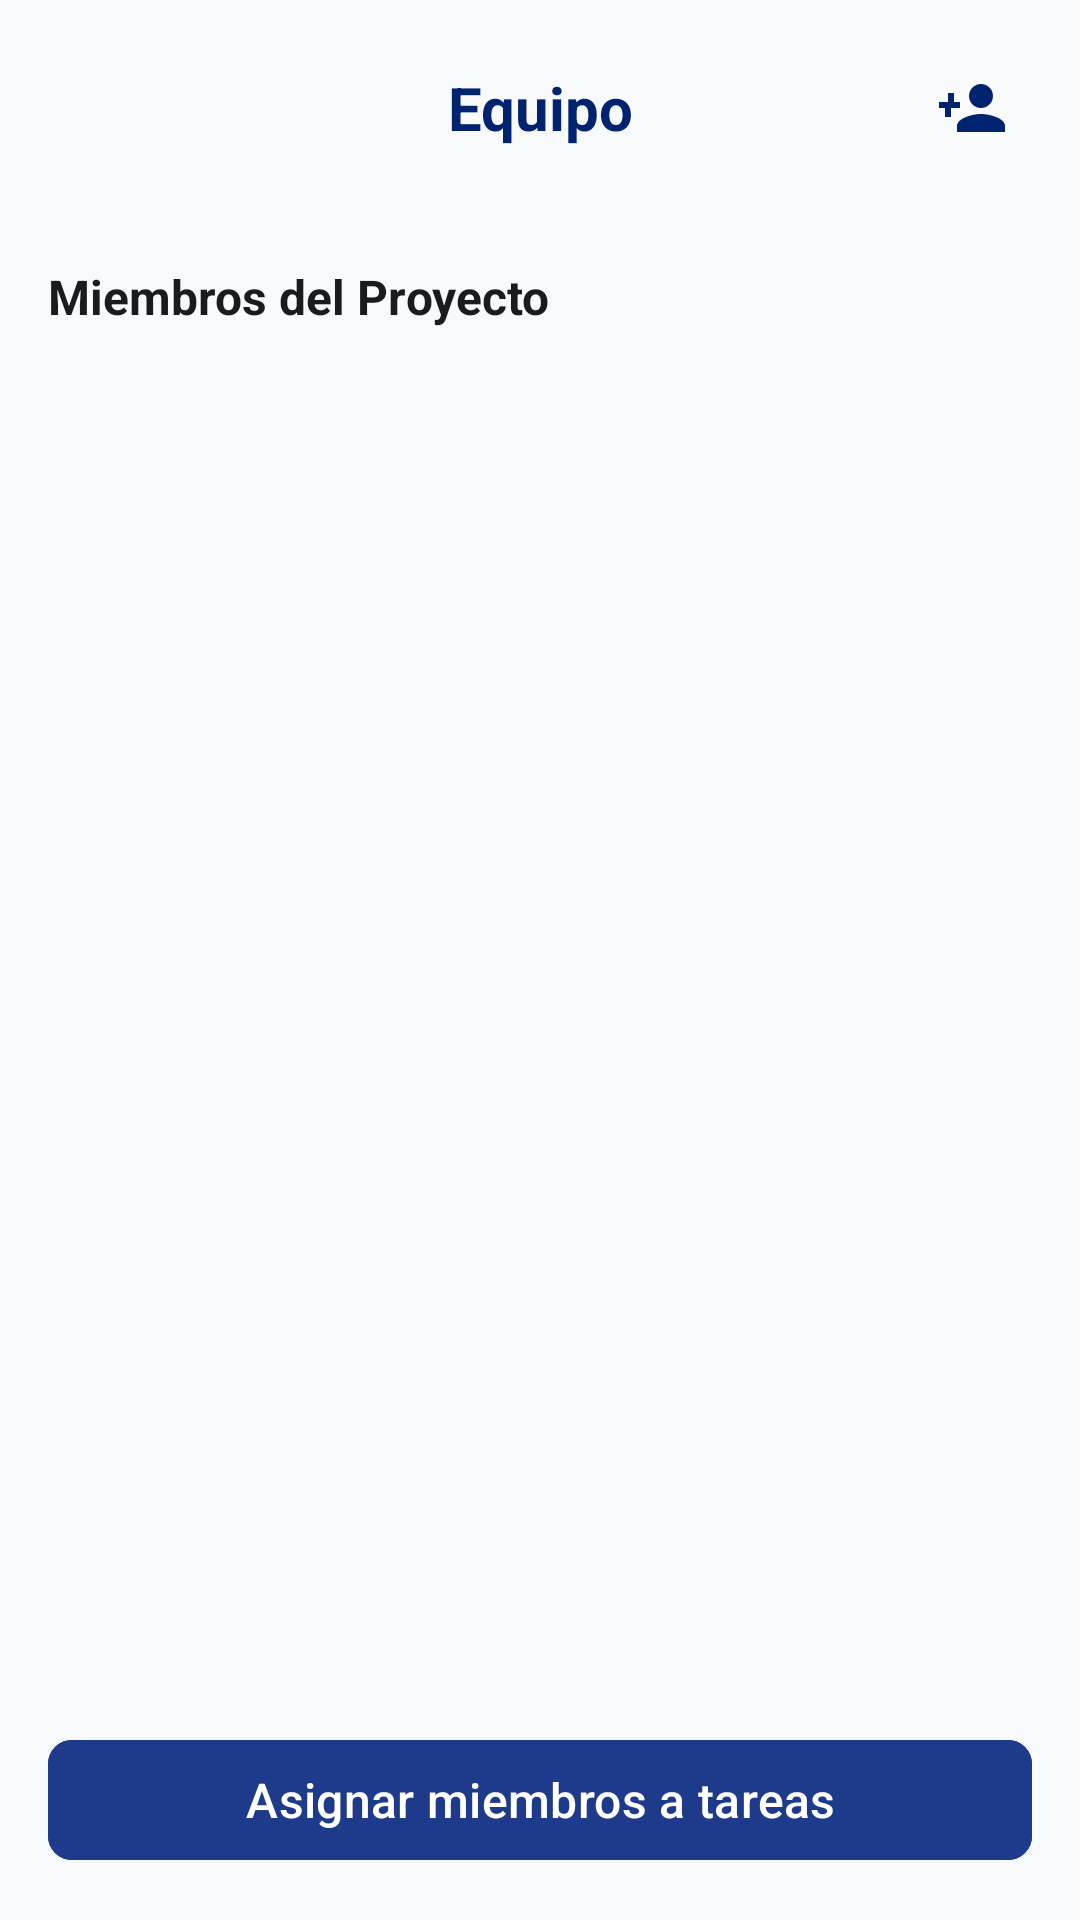

Where icons sit on this 1080px x 1920px app screen, as (x1, y1, x2, y2):
Invitar: (939, 84, 1005, 132)
